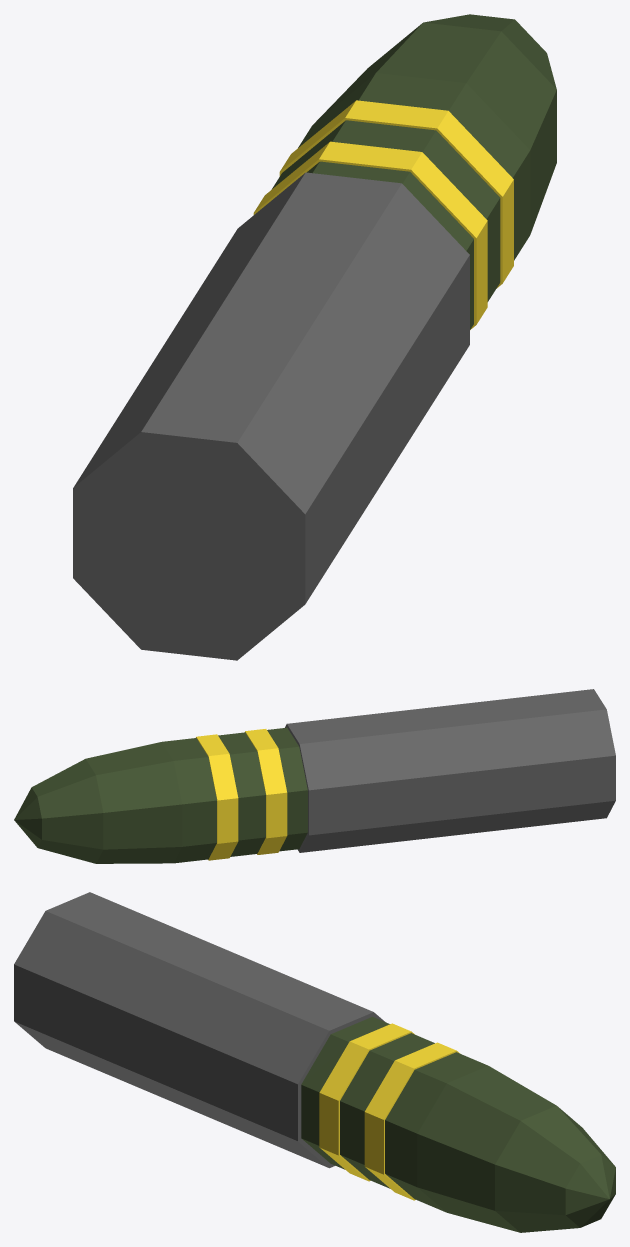
File: ce_ammo2_rcl84_he_a.obj
3 renders of one model, top to bottom at view 1: azimuth 30°, elevation 25°; view 2: azimuth 150°, elevation 25°; view 3: azimuth 270°, elevation 25°, orthographic. The views are drawn at different scales.
Visible parts, largest first — view 1: ce_ammo2_rcl84_he_a_0, ce_ammo2_rcl84_he_a_6, ce_ammo2_rcl84_he_a_5, ce_ammo2_rcl84_he_a_3, ce_ammo2_rcl84_he_a_4, ce_ammo2_rcl84_he_a_2, ce_ammo2_rcl84_he_a_1, ce_ammo2_rcl84_he_a_7; view 2: ce_ammo2_rcl84_he_a_0, ce_ammo2_rcl84_he_a_6, ce_ammo2_rcl84_he_a_7, ce_ammo2_rcl84_he_a_5, ce_ammo2_rcl84_he_a_3, ce_ammo2_rcl84_he_a_4, ce_ammo2_rcl84_he_a_2, ce_ammo2_rcl84_he_a_1, ce_ammo2_rcl84_he_a_8; view 3: ce_ammo2_rcl84_he_a_0, ce_ammo2_rcl84_he_a_6, ce_ammo2_rcl84_he_a_7, ce_ammo2_rcl84_he_a_5, ce_ammo2_rcl84_he_a_3, ce_ammo2_rcl84_he_a_2, ce_ammo2_rcl84_he_a_4, ce_ammo2_rcl84_he_a_1, ce_ammo2_rcl84_he_a_8.
Boxes of the visible parts, bbox=[...] form: ce_ammo2_rcl84_he_a_0: bbox=[73, 172, 469, 660]; ce_ammo2_rcl84_he_a_6: bbox=[313, 22, 556, 234]; ce_ammo2_rcl84_he_a_5: bbox=[298, 73, 530, 260]; ce_ammo2_rcl84_he_a_3: bbox=[271, 120, 500, 301]; ce_ammo2_rcl84_he_a_4: bbox=[279, 100, 513, 288]; ce_ammo2_rcl84_he_a_2: bbox=[253, 141, 487, 329]; ce_ammo2_rcl84_he_a_1: bbox=[307, 161, 473, 329]; ce_ammo2_rcl84_he_a_7: bbox=[423, 14, 556, 89]; ce_ammo2_rcl84_he_a_0: bbox=[285, 689, 615, 852]; ce_ammo2_rcl84_he_a_6: bbox=[86, 742, 182, 863]; ce_ammo2_rcl84_he_a_7: bbox=[32, 759, 103, 863]; ce_ammo2_rcl84_he_a_5: bbox=[162, 738, 216, 863]; ce_ammo2_rcl84_he_a_3: bbox=[218, 732, 265, 856]; ce_ammo2_rcl84_he_a_4: bbox=[196, 734, 238, 860]; ce_ammo2_rcl84_he_a_2: bbox=[245, 729, 287, 854]; ce_ammo2_rcl84_he_a_1: bbox=[267, 727, 307, 851]; ce_ammo2_rcl84_he_a_8: bbox=[14, 787, 41, 847]; ce_ammo2_rcl84_he_a_0: bbox=[14, 892, 384, 1168]; ce_ammo2_rcl84_he_a_6: bbox=[417, 1066, 556, 1232]; ce_ammo2_rcl84_he_a_7: bbox=[495, 1105, 614, 1232]; ce_ammo2_rcl84_he_a_5: bbox=[385, 1052, 488, 1212]; ce_ammo2_rcl84_he_a_3: bbox=[340, 1033, 434, 1188]; ce_ammo2_rcl84_he_a_2: bbox=[319, 1023, 414, 1181]; ce_ammo2_rcl84_he_a_4: bbox=[364, 1042, 460, 1200]; ce_ammo2_rcl84_he_a_1: bbox=[301, 1016, 389, 1169]; ce_ammo2_rcl84_he_a_8: bbox=[565, 1154, 615, 1227].
Bounding box in the file's own units: 0.6596 × 0.1662 × 0.6596.
